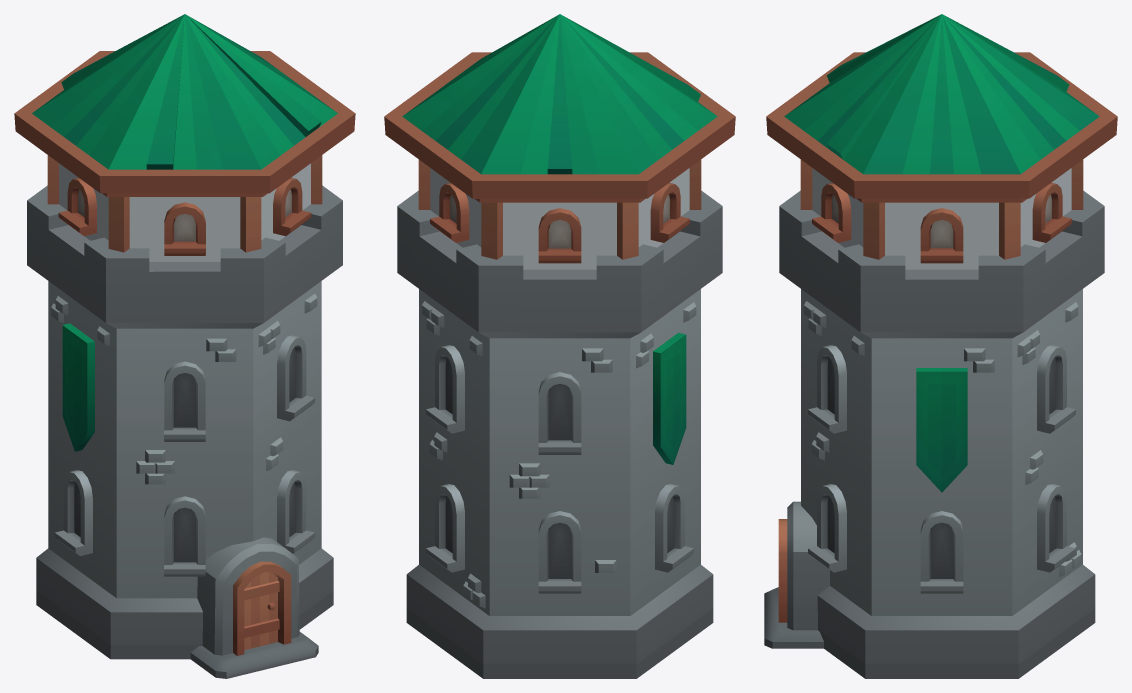
File: kay-torre-verde.gltf
The picture shows the model from 3 angles, left to right: view 1: azimuth 30°, elevation 25°; view 2: azimuth 150°, elevation 25°; view 3: azimuth 270°, elevation 25°; orthographic projection. The views are drawn at different scales.
Parts seen in each view (by area): view 1: building_tower_A_green; view 2: building_tower_A_green; view 3: building_tower_A_green.
Part boxes in pixels (x1,y1,x2,y2): building_tower_A_green: (14,14,355,678); building_tower_A_green: (384,14,735,678); building_tower_A_green: (764,14,1117,678).
Size of the model in its own units: 4.97 by 10.96 by 5.77.
1 material, 1 textured.
